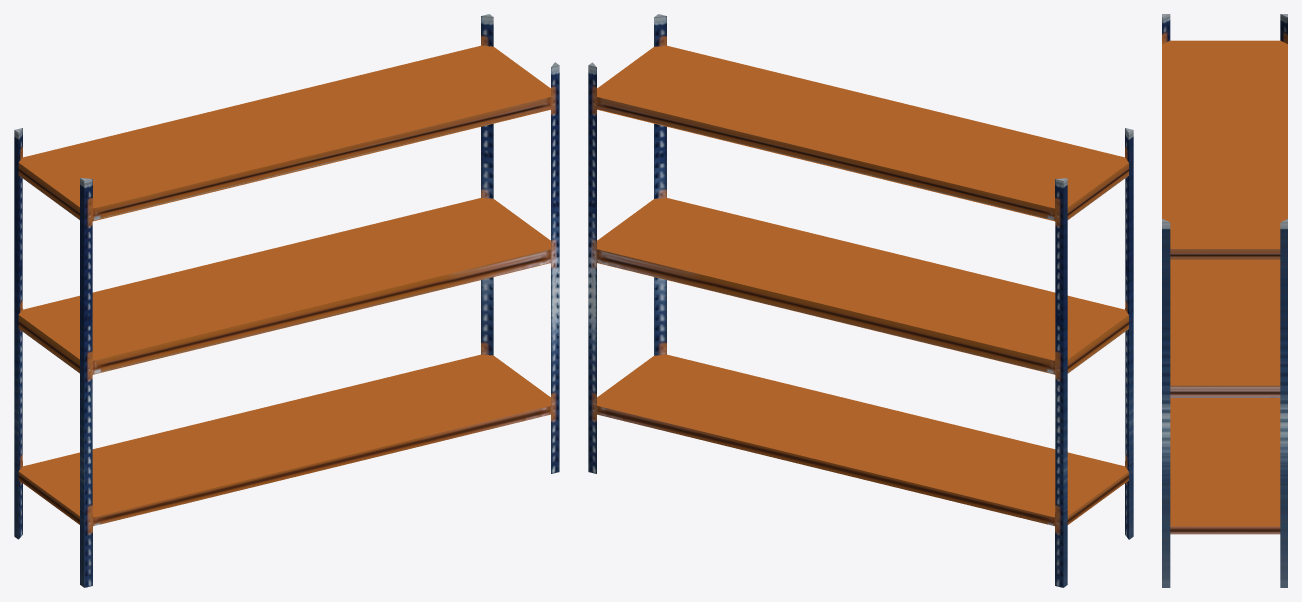
Rendered from shelve.fbx.
The picture shows the model from 3 angles, left to right: view 1: azimuth 30°, elevation 25°; view 2: azimuth 150°, elevation 25°; view 3: azimuth 270°, elevation 25°; orthographic projection. The views are drawn at different scales.
Visible parts, largest first — view 1: Shelve; view 2: Shelve; view 3: Shelve.
Part boxes in pixels (x1,y1,x2,y2): Shelve: [14, 14, 559, 587]; Shelve: [588, 14, 1133, 587]; Shelve: [1162, 14, 1287, 587].
Bounding box in the file's own units: 337 × 276 × 86.
